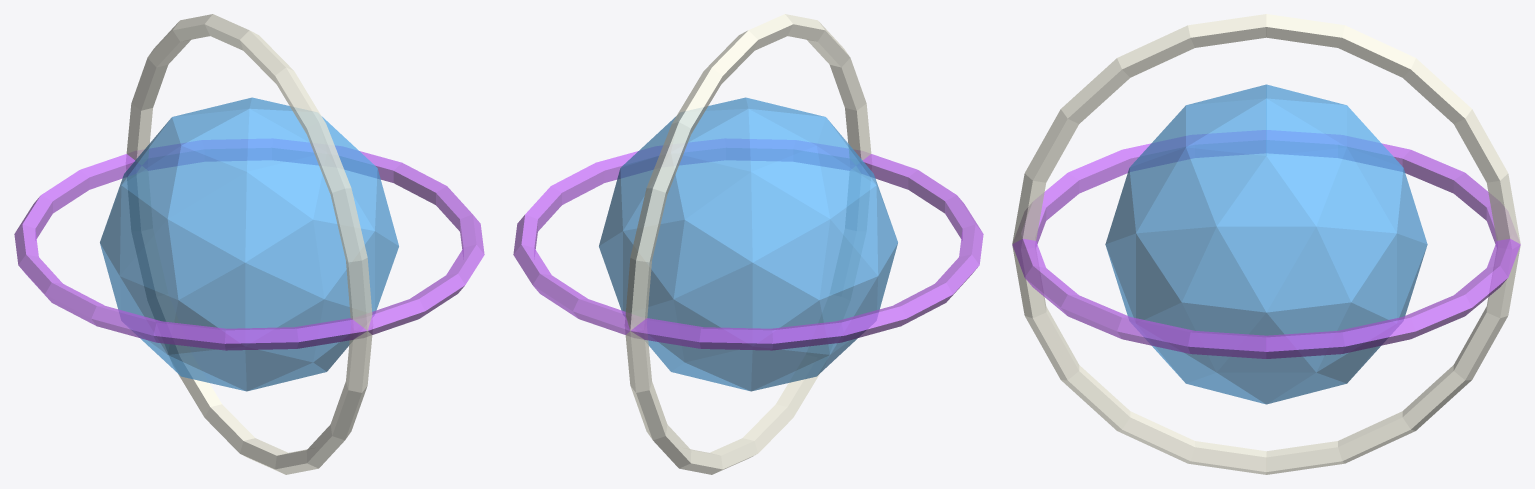
File: vfx_redirectable_sonic_sphere.glb
The picture shows the model from 3 angles, left to right: view 1: azimuth 30°, elevation 25°; view 2: azimuth 150°, elevation 25°; view 3: azimuth 270°, elevation 25°; orthographic projection. The views are drawn at different scales.
Parts seen in each view (by area): view 1: core, ring_y, ring_x; view 2: core, ring_y, ring_x; view 3: core, ring_y, ring_x.
Part boxes in pixels (left/top/right/bottom): core: left=100, top=97, right=398, bottom=391; ring_y: left=126, top=14, right=372, bottom=474; ring_x: left=14, top=139, right=484, bottom=350; core: left=599, top=97, right=897, bottom=391; ring_y: left=625, top=14, right=871, bottom=474; ring_x: left=513, top=139, right=983, bottom=350; core: left=1105, top=84, right=1427, bottom=404; ring_y: left=1012, top=14, right=1520, bottom=474; ring_x: left=1012, top=130, right=1520, bottom=358.
Size of the model in its own units: 1.01 by 1.01 by 1.01.
